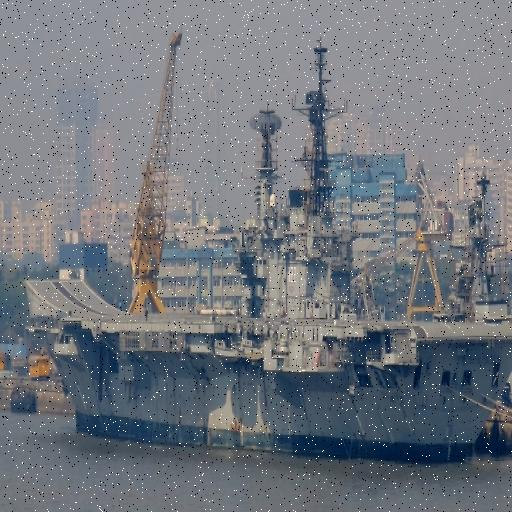Portanaves: (23, 114, 512, 470)
